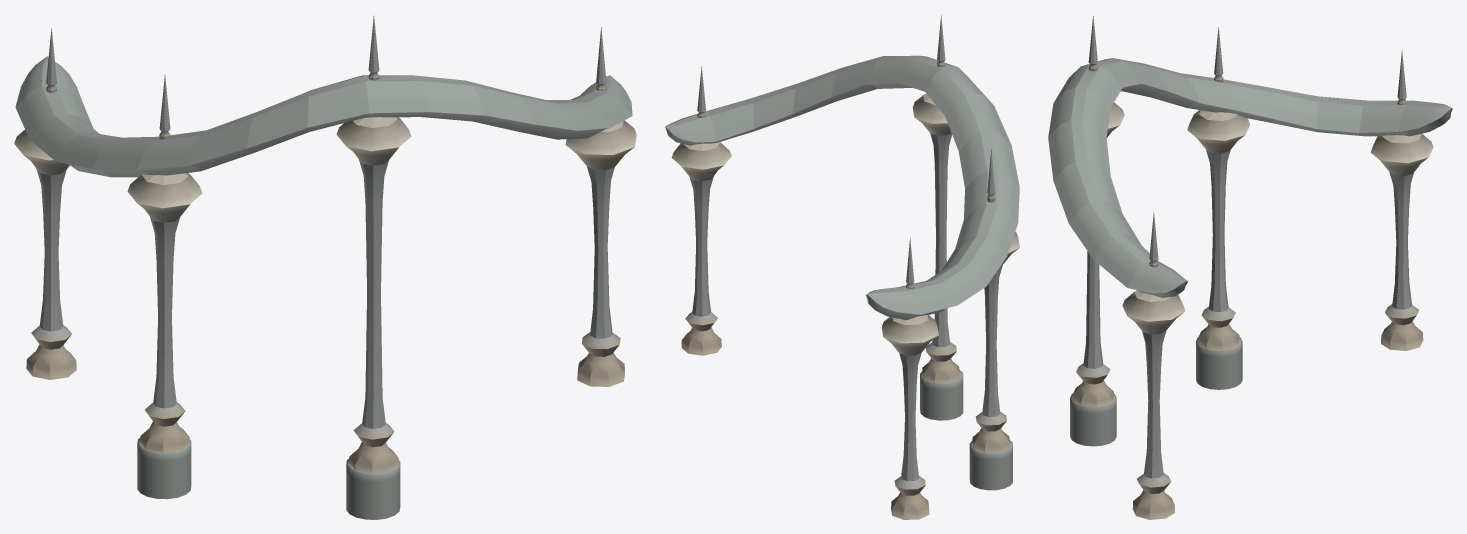
3 renders of one model, left to right at view 1: azimuth 30°, elevation 25°; view 2: azimuth 150°, elevation 25°; view 3: azimuth 270°, elevation 25°, orthographic. The views are drawn at different scales.
Parts seen in each view (by area): view 1: G:\FFXIV-MapTools\exports\n4f4\bg\ex3\01_nvt_n4\fld\n4f4\bgp (×7); view 2: G:\FFXIV-MapTools\exports\n4f4\bg\ex3\01_nvt_n4\fld\n4f4\bgp (×7); view 3: G:\FFXIV-MapTools\exports\n4f4\bg\ex3\01_nvt_n4\fld\n4f4\bgp (×7).
Part boxes in pixels (x1,y1,x2,y2): G:\FFXIV-MapTools\exports\n4f4\bg\ex3\01_nvt_n4\fld\n4f4\bgp (×7): [14, 16, 636, 519]; G:\FFXIV-MapTools\exports\n4f4\bg\ex3\01_nvt_n4\fld\n4f4\bgp (×7): [665, 15, 1019, 519]; G:\FFXIV-MapTools\exports\n4f4\bg\ex3\01_nvt_n4\fld\n4f4\bgp (×7): [1048, 16, 1452, 519].
Size of the model in its own units: 28.73 by 28.1 by 24.37.
